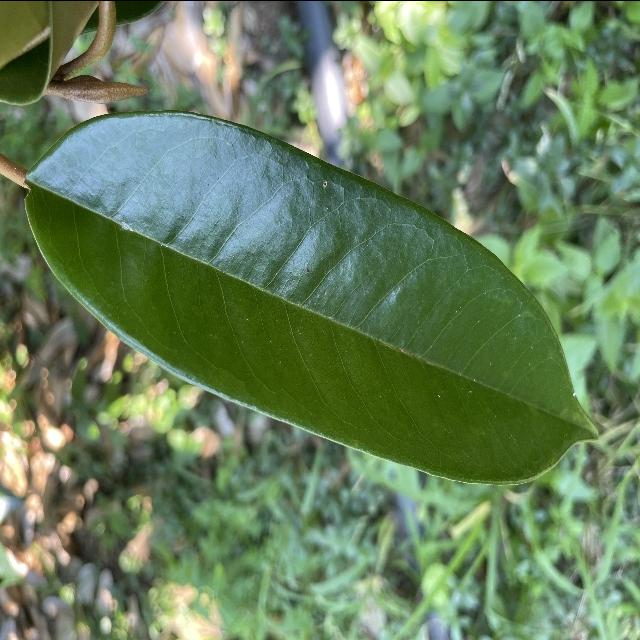No Disease: (17, 99, 607, 493)
